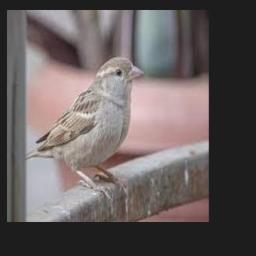Sparrow: (25, 56, 145, 199)
